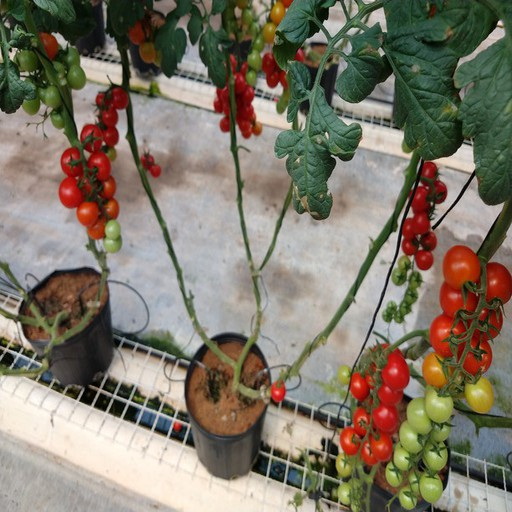green tomato bunch: (384, 397, 455, 509), (14, 34, 86, 130)
mixed tomato bunch: (259, 1, 304, 91)
red tomato bunch: (429, 251, 498, 391), (341, 342, 409, 465), (60, 123, 118, 237), (207, 51, 264, 139), (402, 162, 446, 269), (92, 85, 129, 151)
